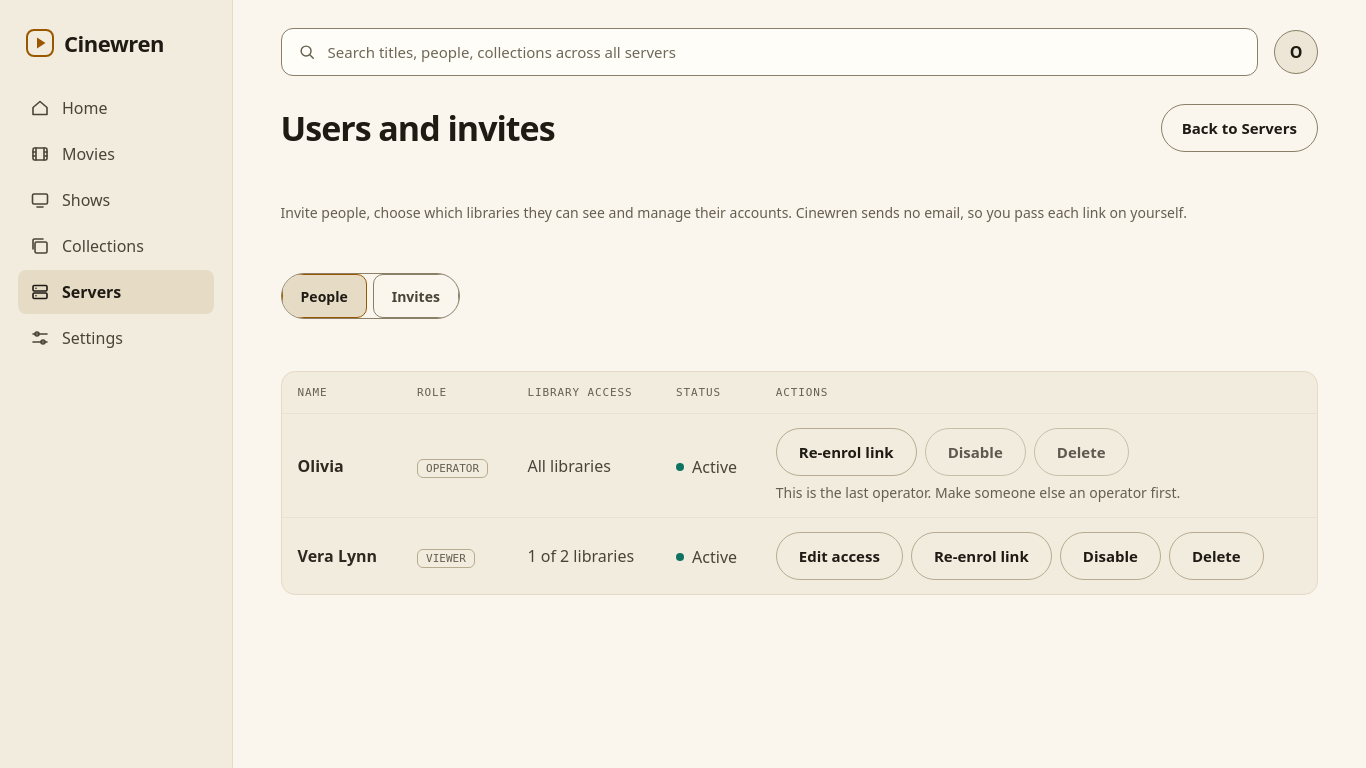
Test: issues a re-enrolment link and shows it once (FR-USR-007)
The image size is (1366, 768).
Click the button with aria-label "Re-enrol link for Vera Lynn".
click(981, 556)  # box [911,532,1052,580]
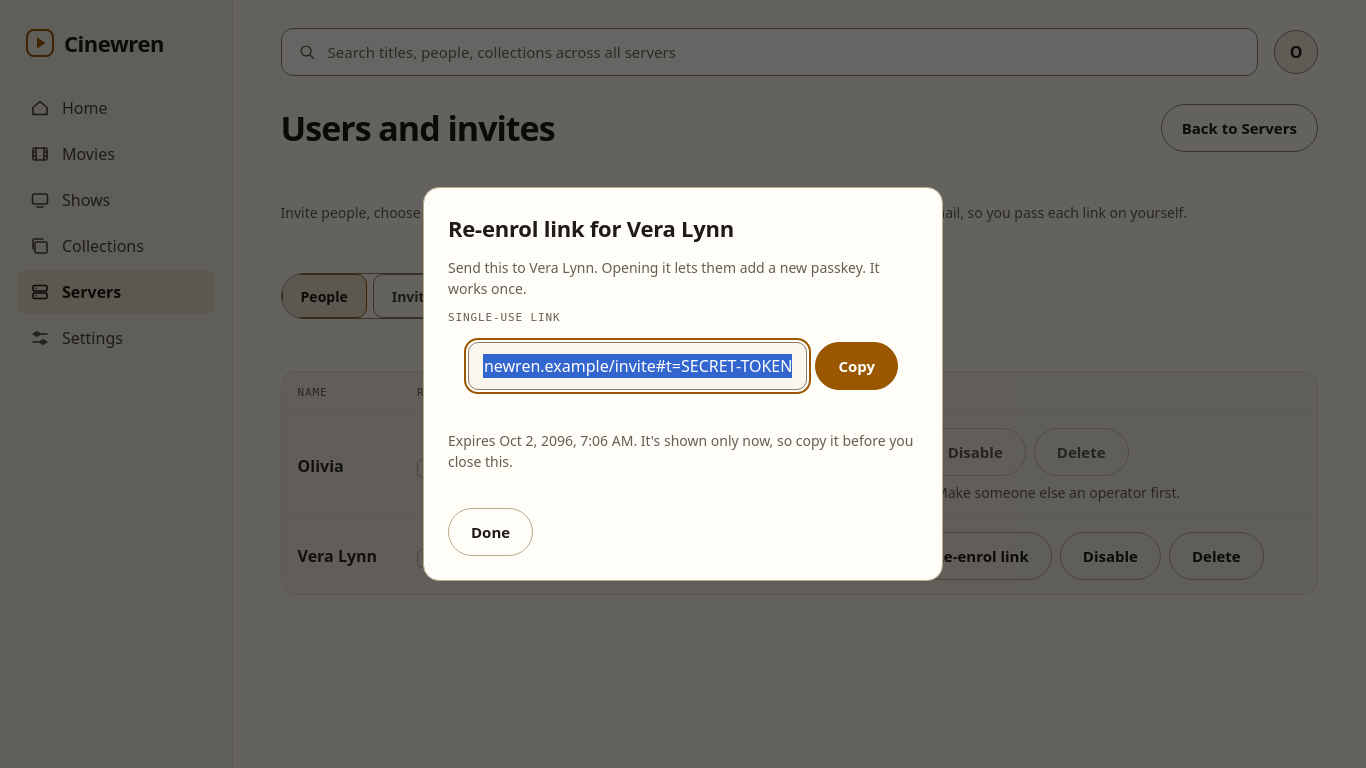
Check: the field labelled "Single-use link" holds "https://cinewren.example/invite#t=SECRET-TOKEN", box [468,342,807,390]
Click the button "Done".
click(491, 532)  # box [448,508,533,556]
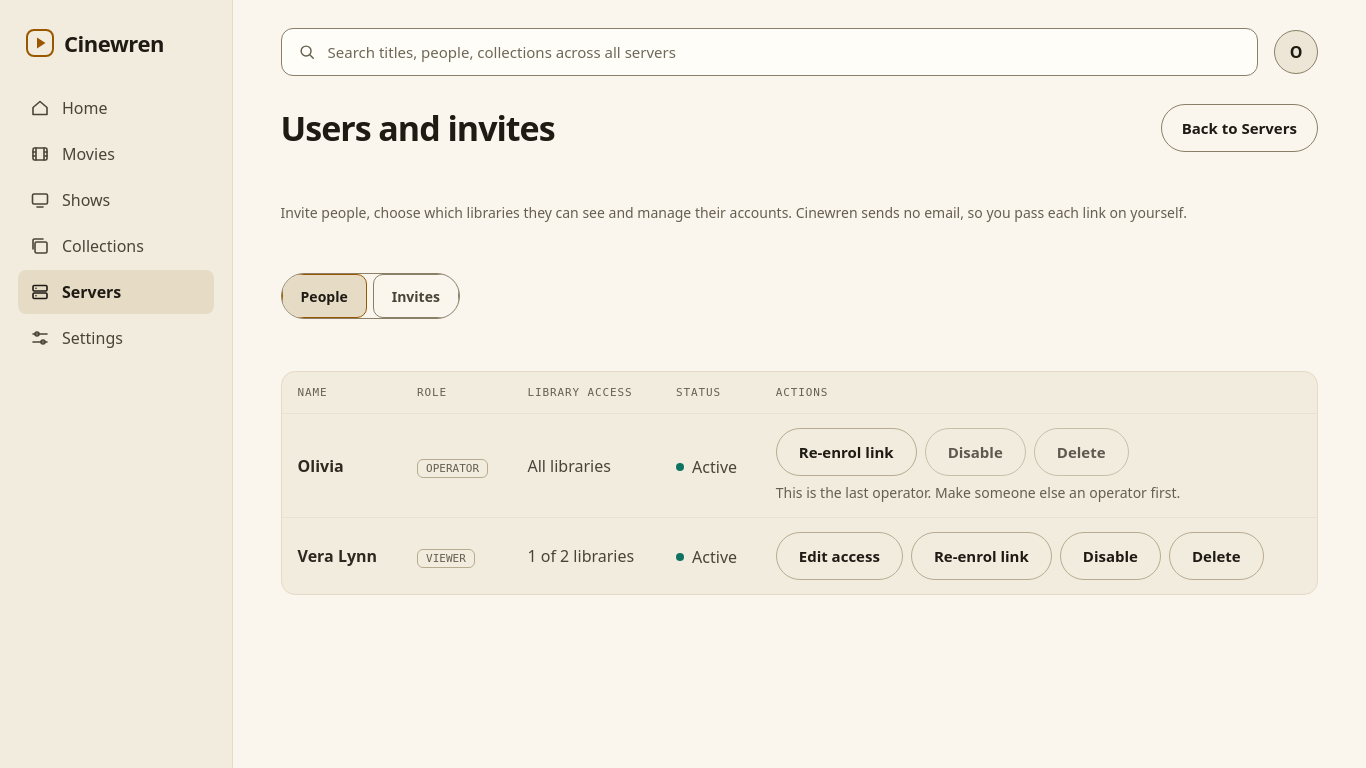
Check: the dialog is gone
